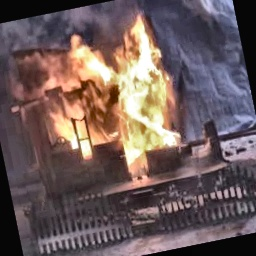fire: (16, 6, 199, 200)
